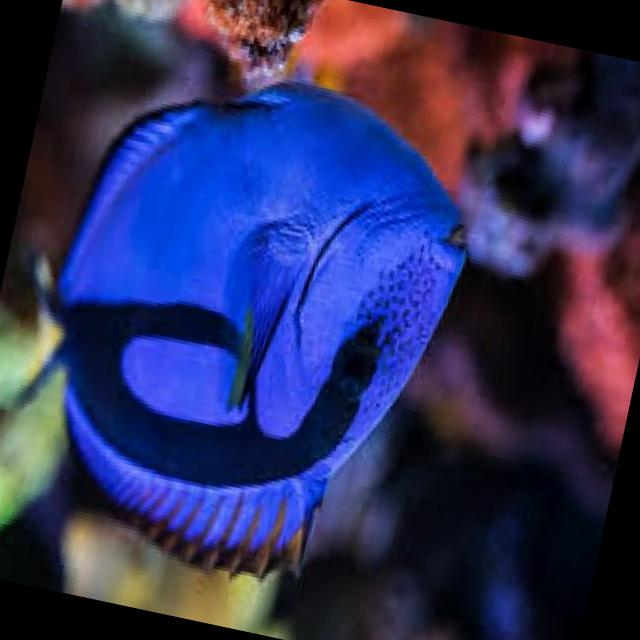BlueTang: (0, 5, 512, 632)
